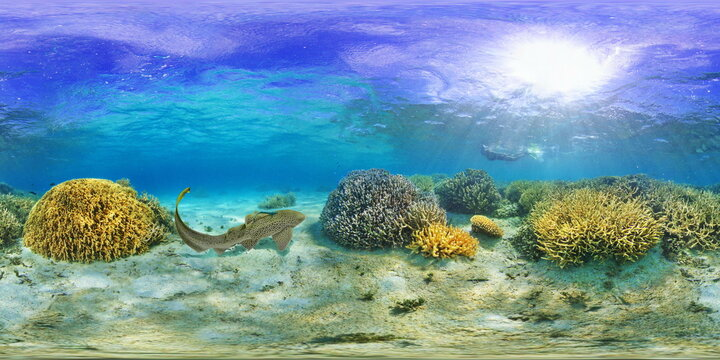Leopard Shark: (149, 167, 331, 280)
